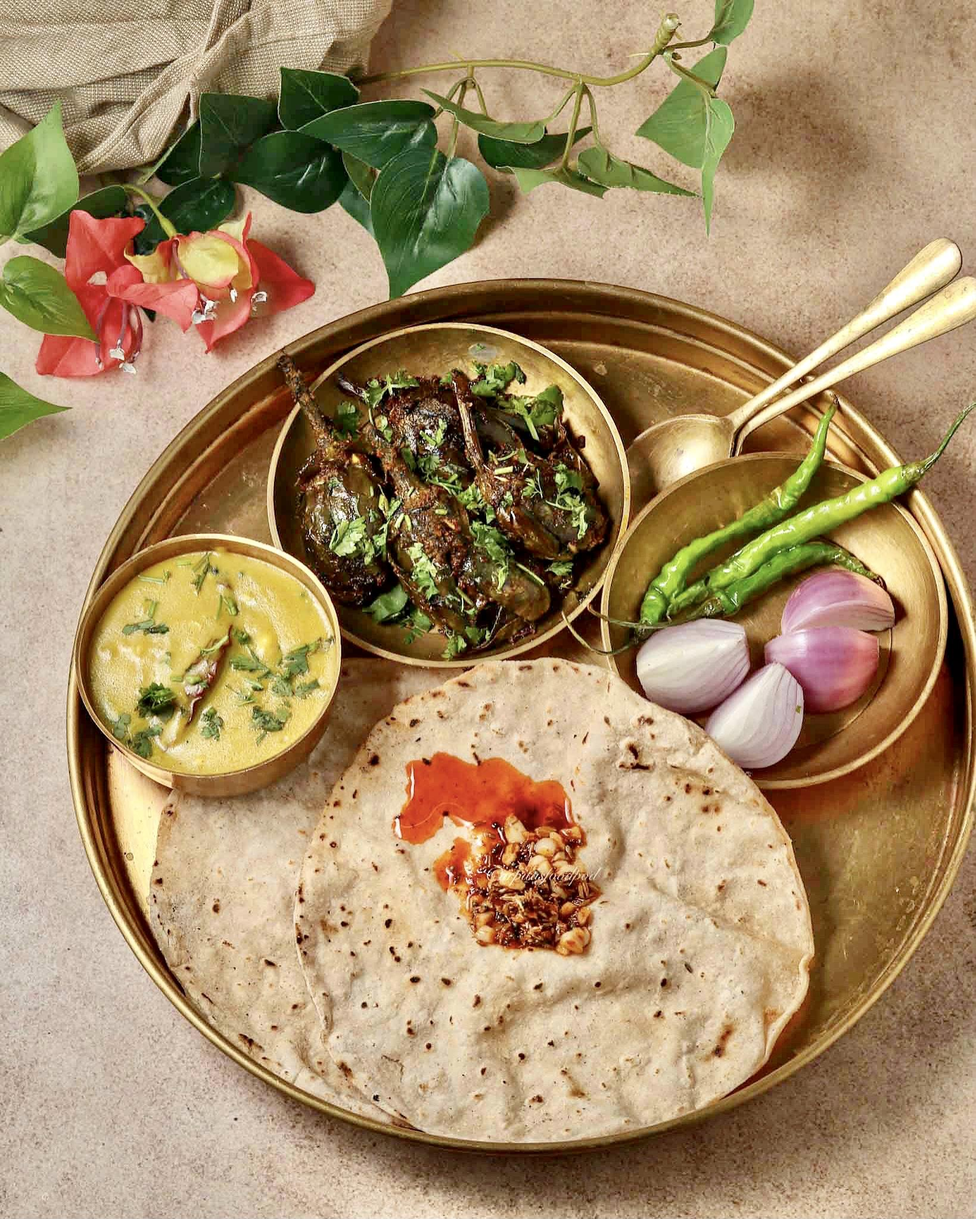bhakri: (305, 651, 819, 1116), (159, 636, 483, 1136)
salad: (656, 564, 922, 778)
